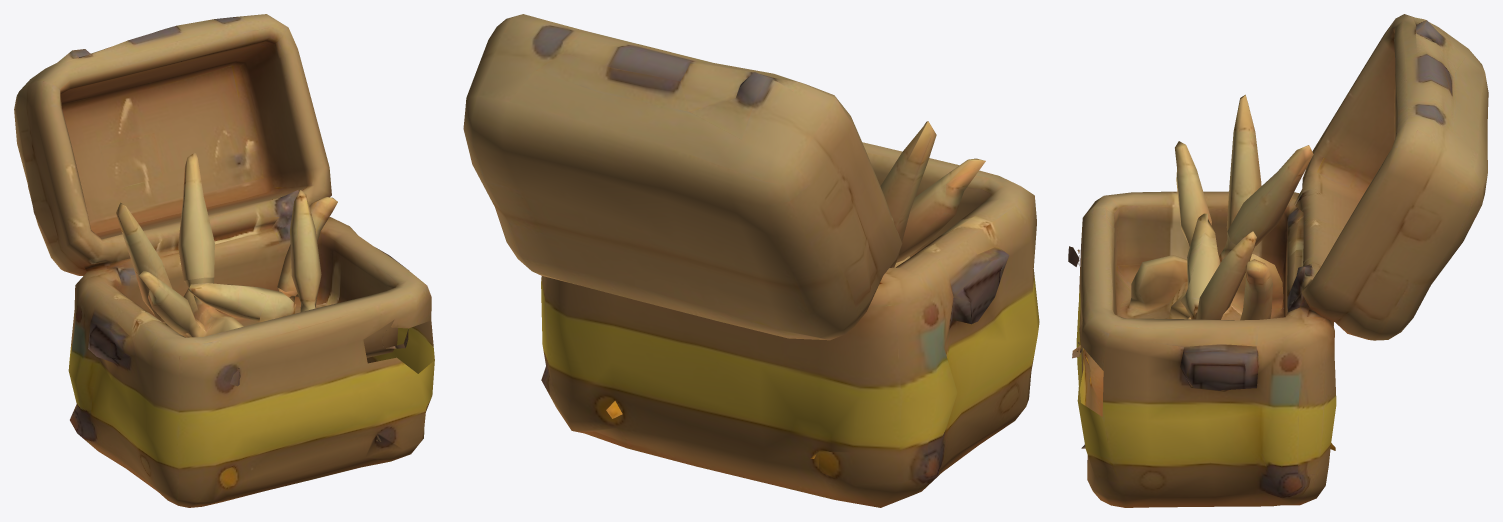
File: ammo5.glb
3 renders of one model, left to right at view 1: azimuth 30°, elevation 25°; view 2: azimuth 150°, elevation 25°; view 3: azimuth 270°, elevation 25°, orthographic. The views are drawn at different scales.
Parts seen in each view (by area): view 1: tripo_node_f575e861-c059-4721-ae67-27c19dd7a8b4; view 2: tripo_node_f575e861-c059-4721-ae67-27c19dd7a8b4; view 3: tripo_node_f575e861-c059-4721-ae67-27c19dd7a8b4.
Boxes of the visible parts, x1,y1,x2,y2 form: tripo_node_f575e861-c059-4721-ae67-27c19dd7a8b4: [14, 14, 434, 507]; tripo_node_f575e861-c059-4721-ae67-27c19dd7a8b4: [463, 14, 1039, 507]; tripo_node_f575e861-c059-4721-ae67-27c19dd7a8b4: [1068, 14, 1488, 507].
Bounding box in the file's own units: 0.8531 × 0.9561 × 0.9479.
1 material, 1 textured.
